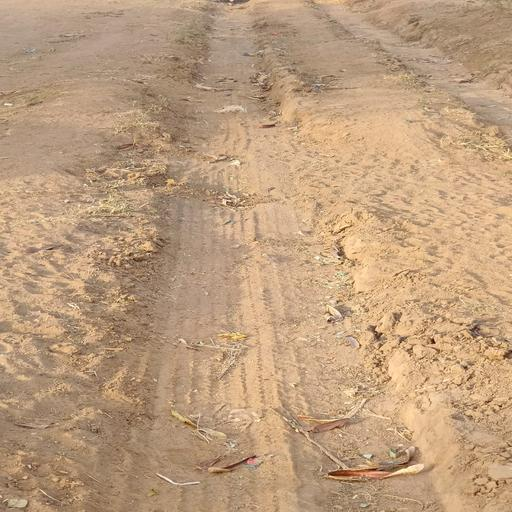vehicle_track: (110, 0, 453, 512), (312, 0, 512, 141)
